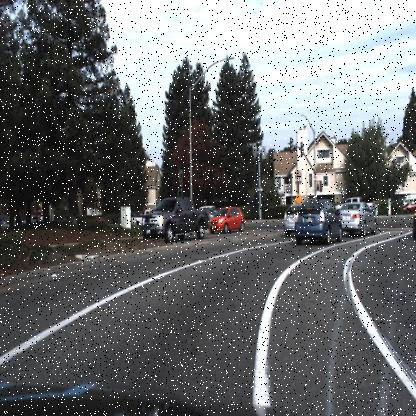car: (135, 190, 212, 246), (291, 195, 345, 247), (339, 197, 381, 239), (202, 203, 250, 237), (281, 204, 295, 240), (398, 198, 416, 216)
